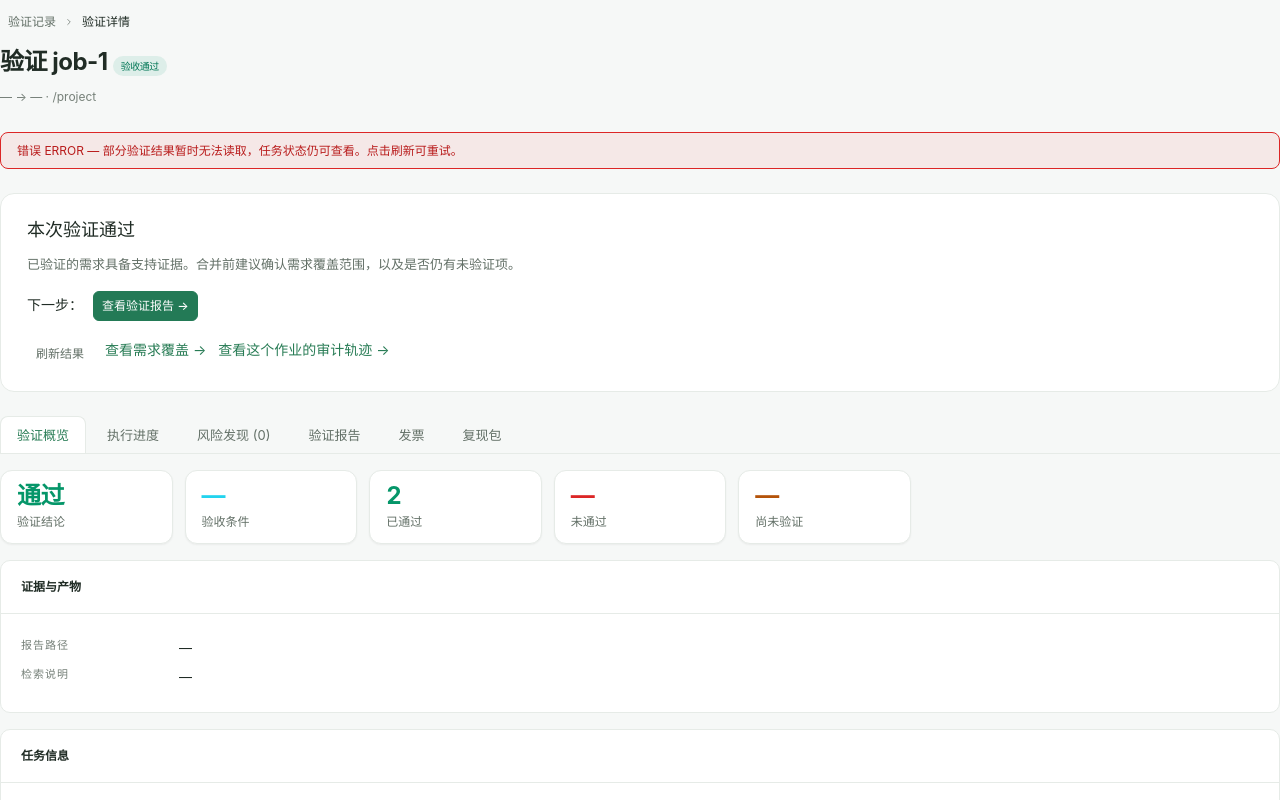
Scenario: verification lifecycle › does not claim a clean risk scan when the findings read failed
The width and height of the screenshot is (1280, 800).
Expected: the heading "本次验证通过" is shown, [27,219,135,240]
Click the tab "风险发现 (0)".
click(234, 434)  # box [180,416,287,453]
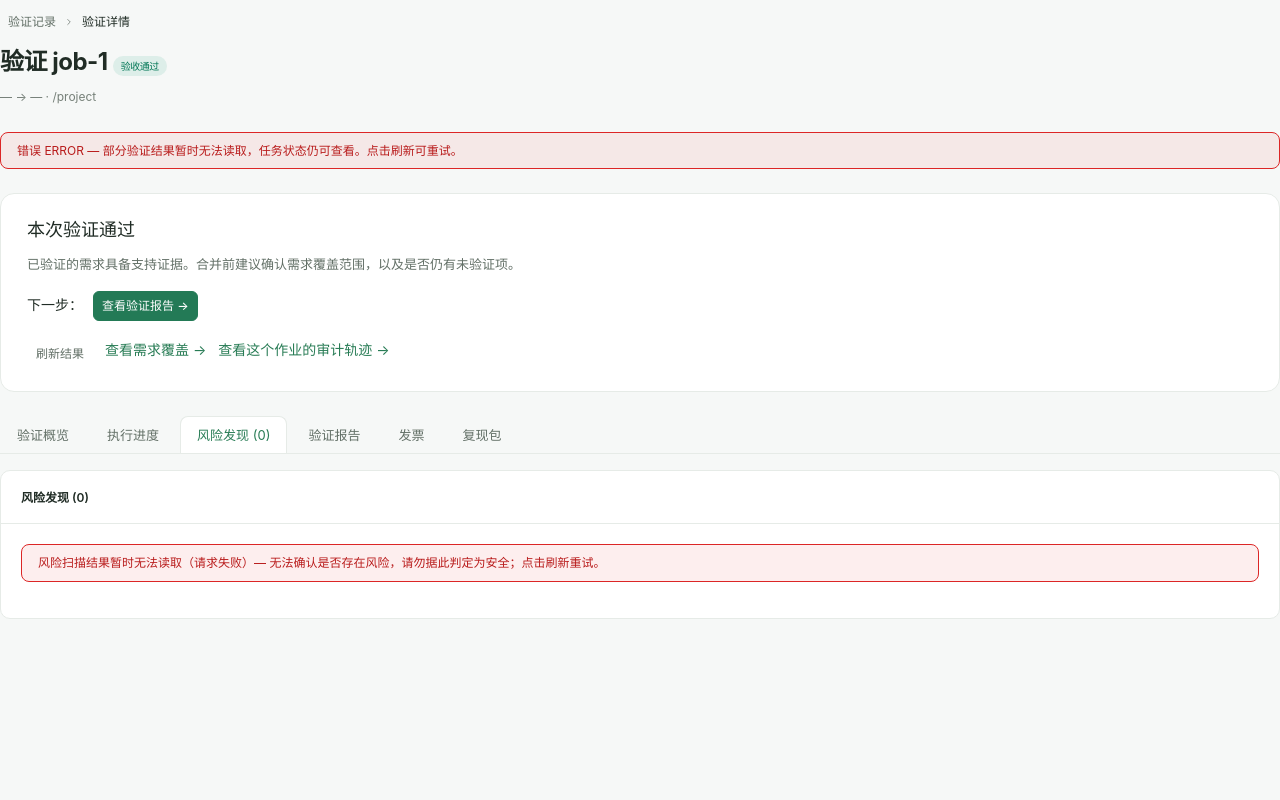
Result: the text "风险扫描结果暂时无法读取（请求失败）— 无法确认是否存在风险，请勿据此判定为安全；点击刷新重试。" is shown at [21,544,1259,582]
